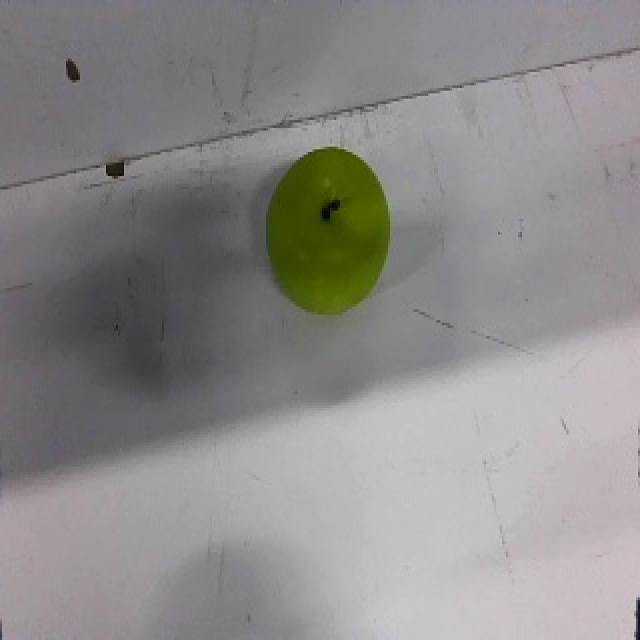apple: (264, 146, 392, 316)
